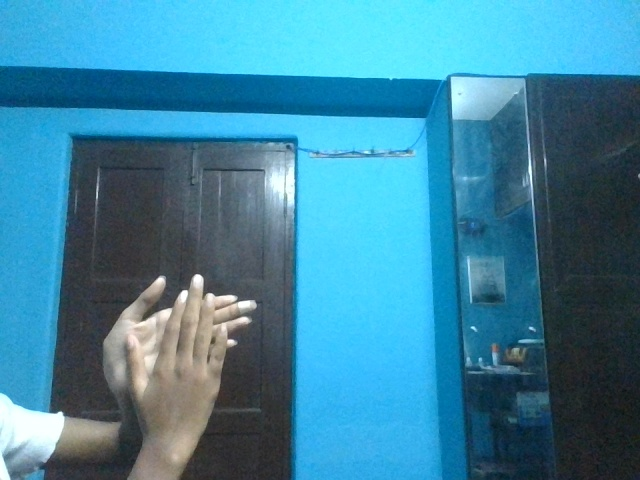H: (101, 270, 269, 424)
